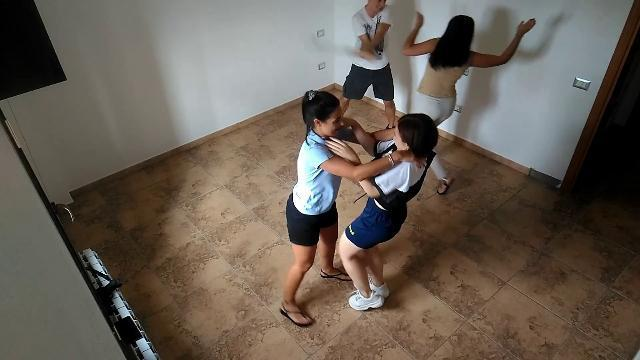violence: (338, 0, 538, 196), (278, 89, 438, 329)
